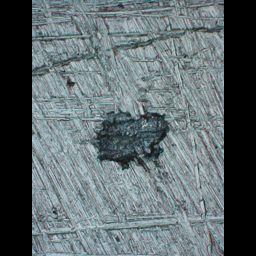d: (84, 106, 173, 172)
